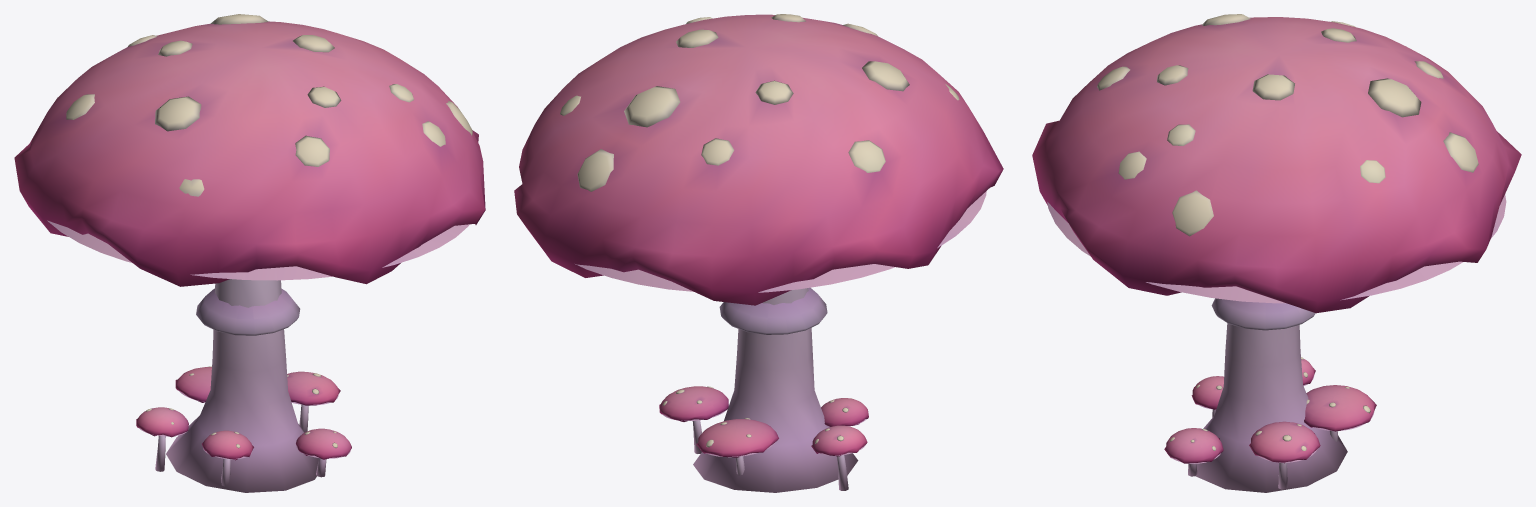
Rendered from verdant_tree_umbrellashroom_a.glb.
3 views of the same model, side by side, from view 1: azimuth 30°, elevation 25°; view 2: azimuth 150°, elevation 25°; view 3: azimuth 270°, elevation 25° (orthographic). The views are drawn at different scales.
Parts seen in each view (by area): view 1: verdant_tree_umbrellashroom_a; view 2: verdant_tree_umbrellashroom_a; view 3: verdant_tree_umbrellashroom_a.
Part boxes in pixels (box(x1,y1,x2,y2)): verdant_tree_umbrellashroom_a: box(14, 14, 485, 492); verdant_tree_umbrellashroom_a: box(514, 14, 1003, 492); verdant_tree_umbrellashroom_a: box(1032, 14, 1521, 492).
Size of the model in its own units: 8.71 by 8.3 by 8.87.
